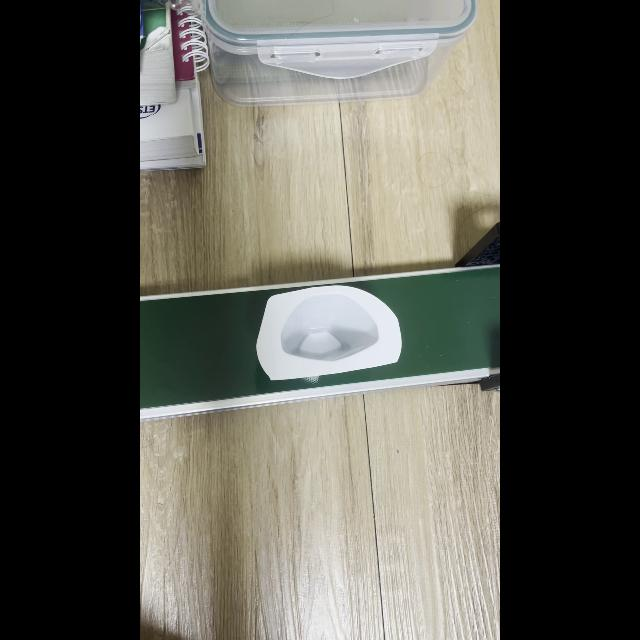clean: (256, 285, 402, 381)
